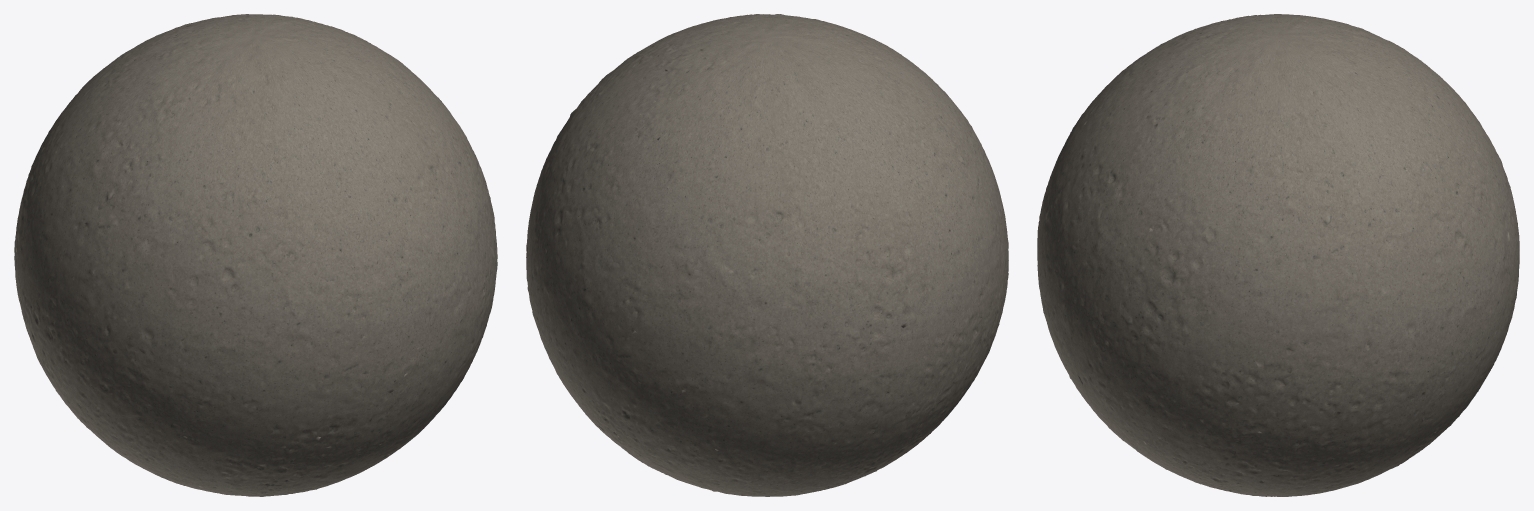
File: moon_dusted_05_1k.gltf
3 renders of one model, left to right at view 1: azimuth 30°, elevation 25°; view 2: azimuth 150°, elevation 25°; view 3: azimuth 270°, elevation 25°, orthographic.
Visible parts, largest first — view 1: sphere_gltf; view 2: sphere_gltf; view 3: sphere_gltf.
Boxes of the visible parts, left/top/right/bottom form: sphere_gltf: left=14, top=14, right=497, bottom=496; sphere_gltf: left=526, top=14, right=1008, bottom=496; sphere_gltf: left=1037, top=14, right=1519, bottom=496.
Bounding box in the file's own units: 0.5009 × 0.501 × 0.5.
